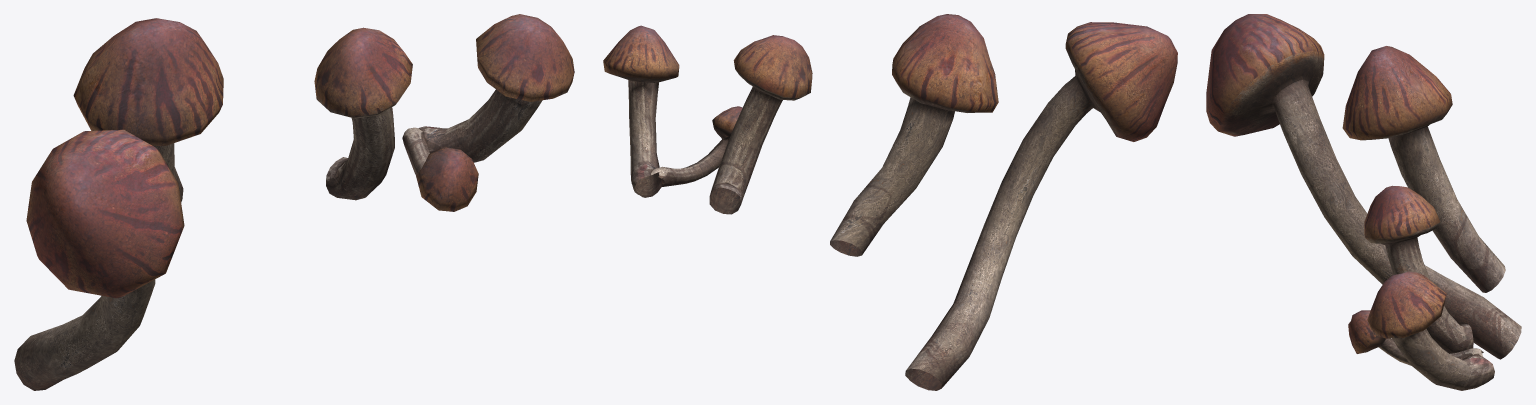
File: sm_yun_mushroom_chest_add.gltf
The picture shows the model from 3 angles, left to right: view 1: azimuth 30°, elevation 25°; view 2: azimuth 150°, elevation 25°; view 3: azimuth 270°, elevation 25°; orthographic projection. The views are drawn at different scales.
Parts seen in each view (by area): view 1: sm_human_mushroom_chest_add; view 2: sm_human_mushroom_chest_add; view 3: sm_human_mushroom_chest_add.
Boxes of the visible parts, x1,y1,x2,y2 form: sm_human_mushroom_chest_add: (14,14,574,390); sm_human_mushroom_chest_add: (603,14,1177,390); sm_human_mushroom_chest_add: (1206,14,1521,390).
Size of the model in its own units: 28.58 by 18.19 by 16.02.
Materials: 1 (1 with a texture image).
